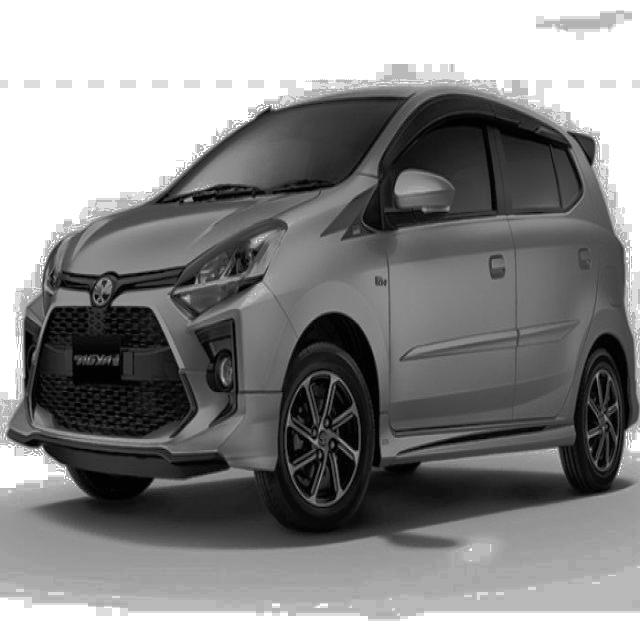Car: (2, 93, 640, 603)
